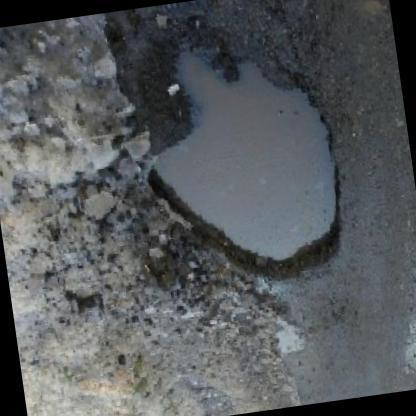pothole: (101, 3, 367, 293)
